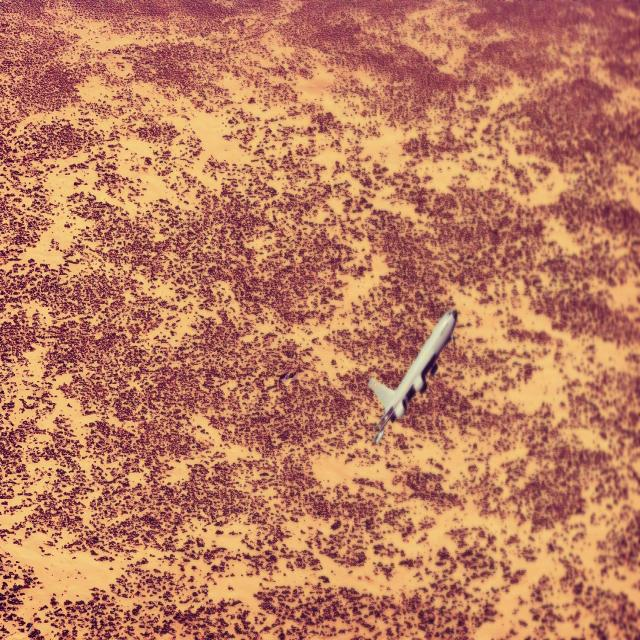airplane: (368, 308, 458, 446)
